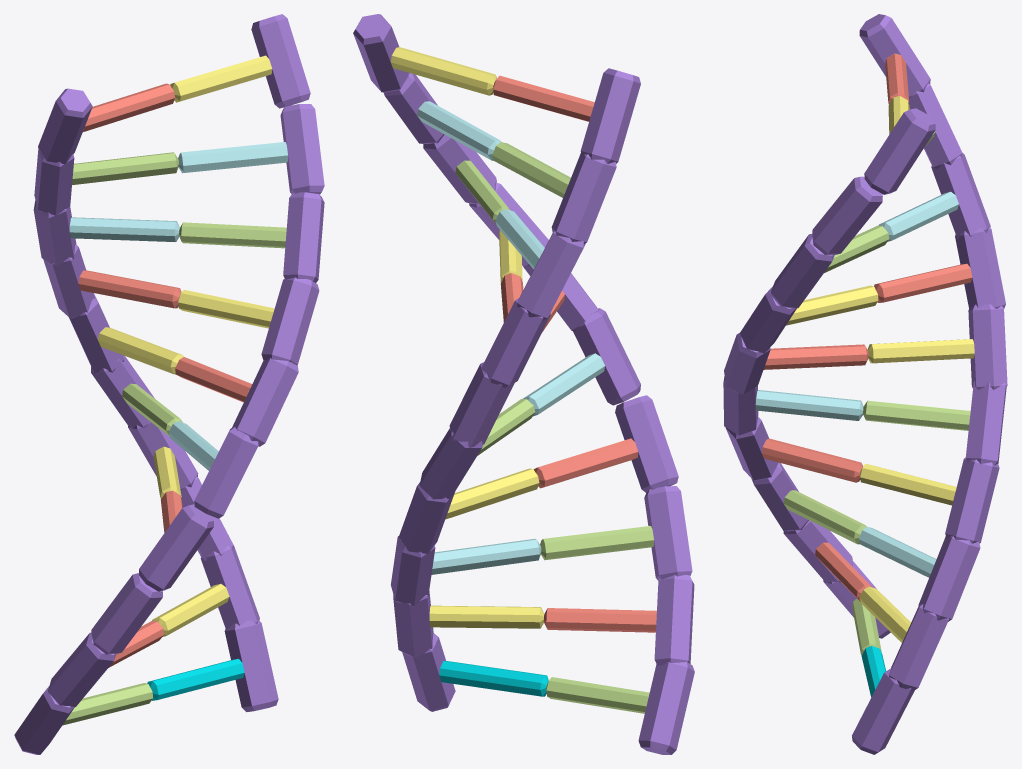
File: dna.glb
3 views of the same model, side by side, from view 1: azimuth 30°, elevation 25°; view 2: azimuth 150°, elevation 25°; view 3: azimuth 270°, elevation 25° (orthographic). The views are drawn at different scales.
Parts seen in each view (by area): view 1: group98256001, group583171219, group1916454902, group905627815, group1941224218; view 2: group98256001, group583171219, group1916454902, group905627815, group1941224218; view 3: group98256001, group1916454902, group583171219, group905627815, group1941224218.
Part boxes in pixels (x1,y1,x2,y2): group98256001: (14, 14, 324, 754); group583171219: (62, 152, 286, 725); group1916454902: (78, 83, 252, 667); group905627815: (69, 142, 287, 470); group1941224218: (147, 658, 244, 700); group98256001: (353, 14, 694, 754); group583171219: (455, 142, 653, 713); group1916454902: (493, 75, 656, 632); group905627815: (417, 101, 604, 574); group1941224218: (439, 661, 548, 696); group98256001: (723, 14, 1007, 754); group1916454902: (762, 53, 972, 601); group583171219: (783, 131, 970, 655); group905627815: (755, 191, 958, 577); group1941224218: (861, 646, 885, 697).
Bounding box in the file's own units: 1.31 × 2.93 × 1.14.
